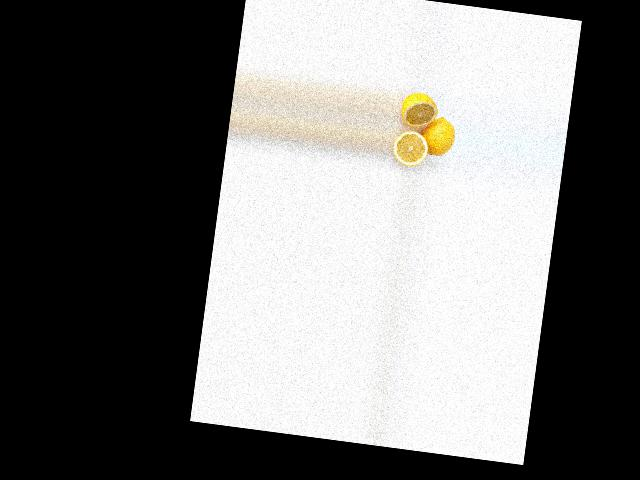lemon: (420, 111, 458, 161)
